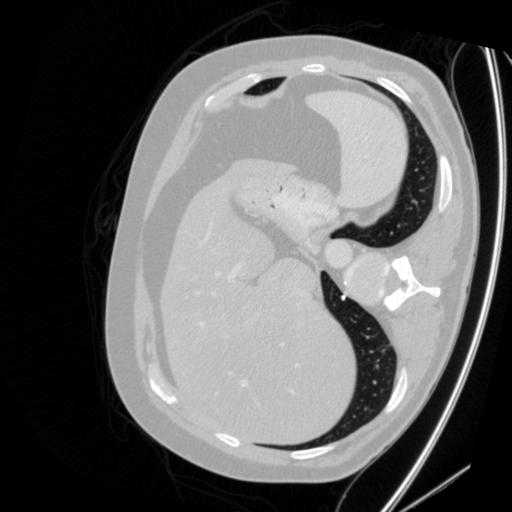nodule: (337, 293, 349, 305)
